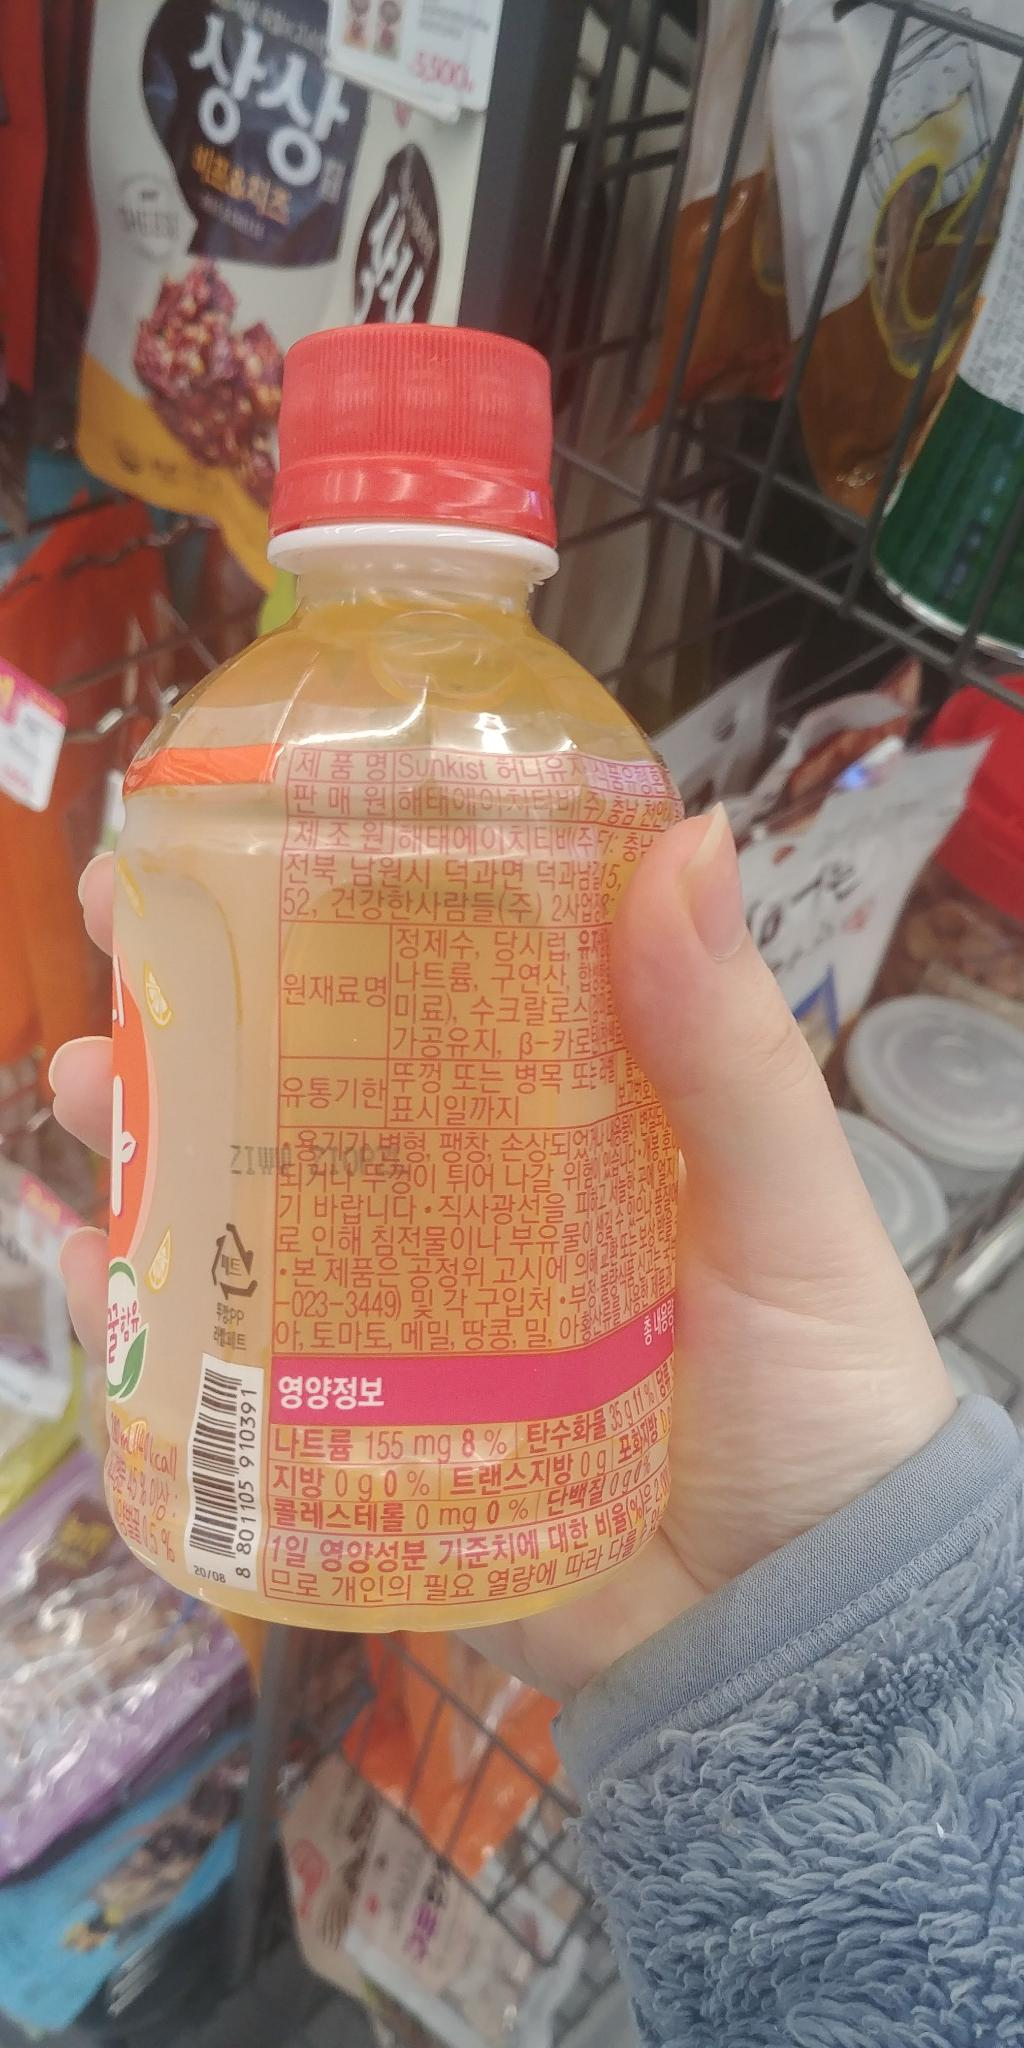honeyyuja: (77, 311, 728, 1642)
